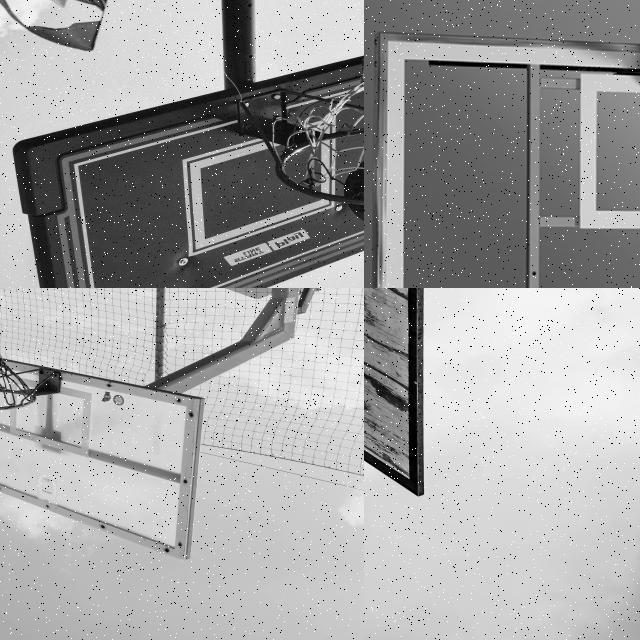backboard: (20, 63, 364, 288), (364, 16, 640, 288), (0, 360, 197, 556)
